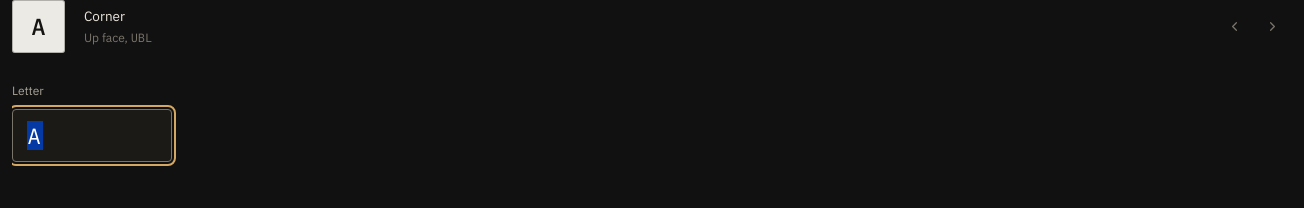
Test case: lettering field completion › keeps the field uncluttered and normalizes case/whitespace before validating
Replace the text in the field labelled "Letter" with " b " at (92, 136), box [12,109,172,162]
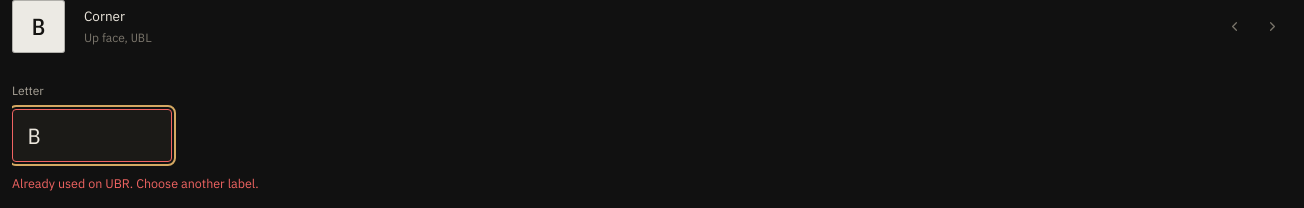
Result: the field labelled "Letter" is marked as invalid
Replace the text in the field labelled "Letter" with "sh" at (92, 136), box [12,109,172,162]
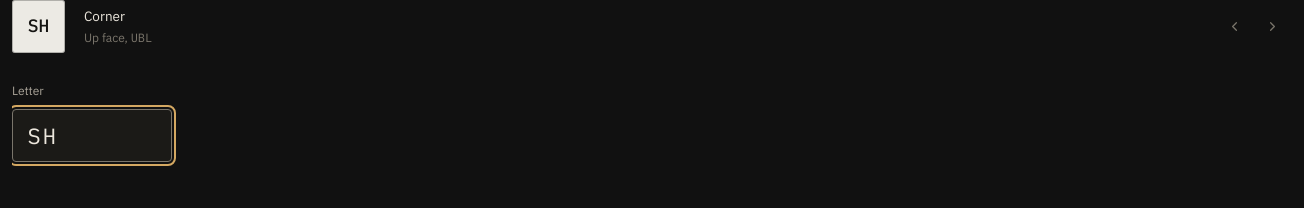
Result: the field labelled "Letter" is not marked as invalid at [12,109,172,162]
